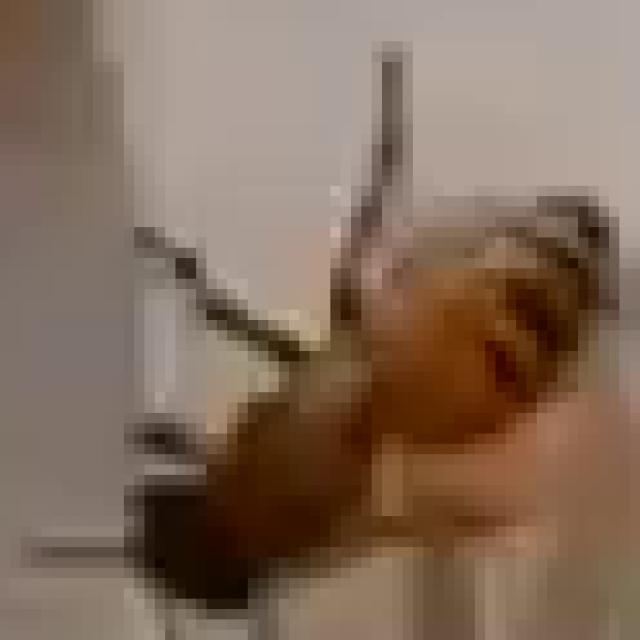honeybee: (119, 204, 612, 604)
